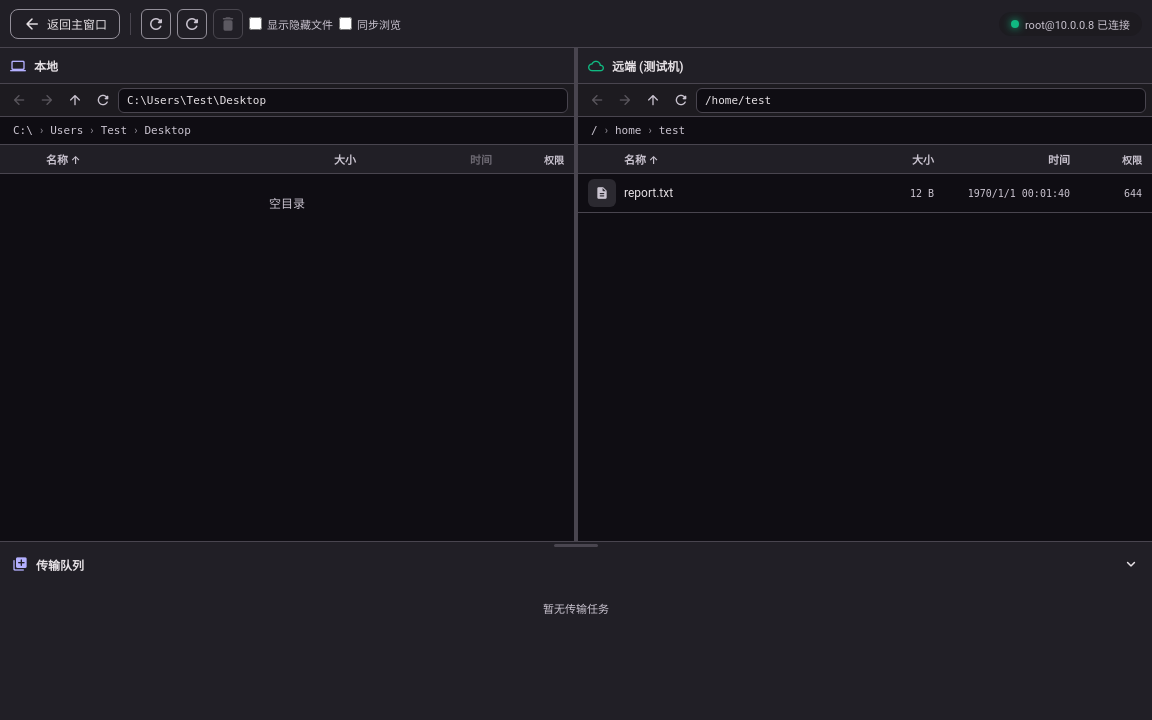
Test case: SFTP 远端文本编辑（外部编辑器） › 未修改关闭收到 unchanged，不回传也不取消
Later steps or results of the test are not shown.
Right-click the text "report.txt".
right_click(649, 193)  # box [624, 186, 673, 200]
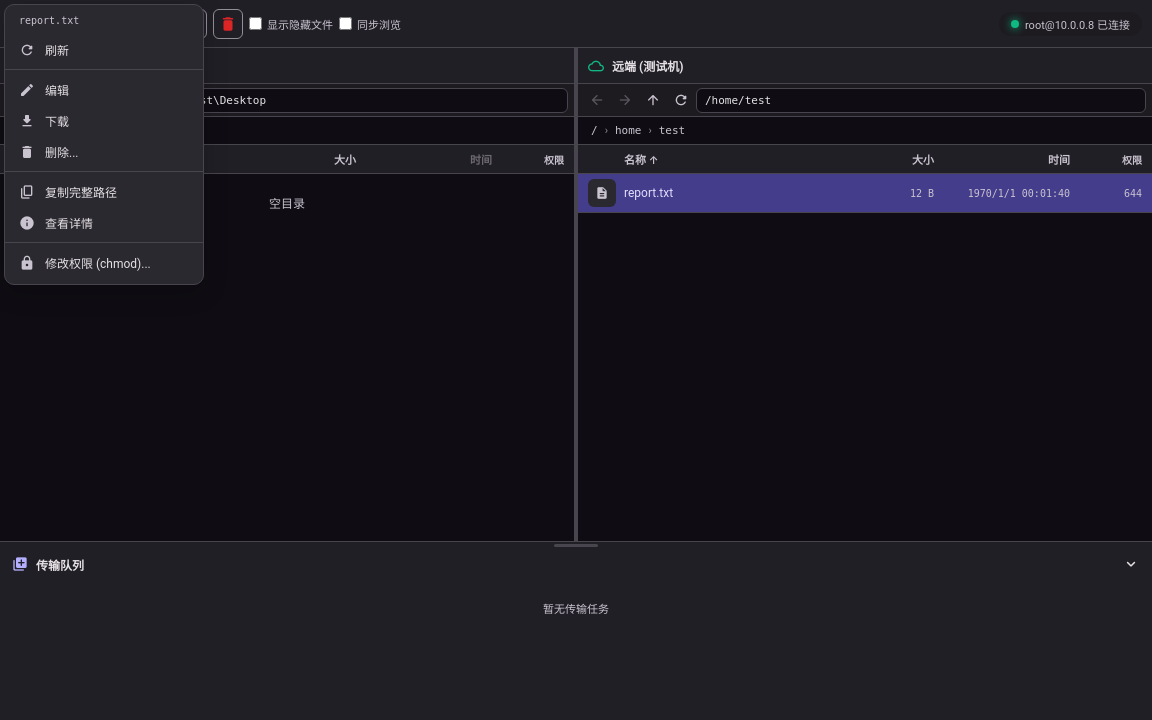
Click the menu item "编辑".
click(44, 90)  # box [19, 82, 69, 98]
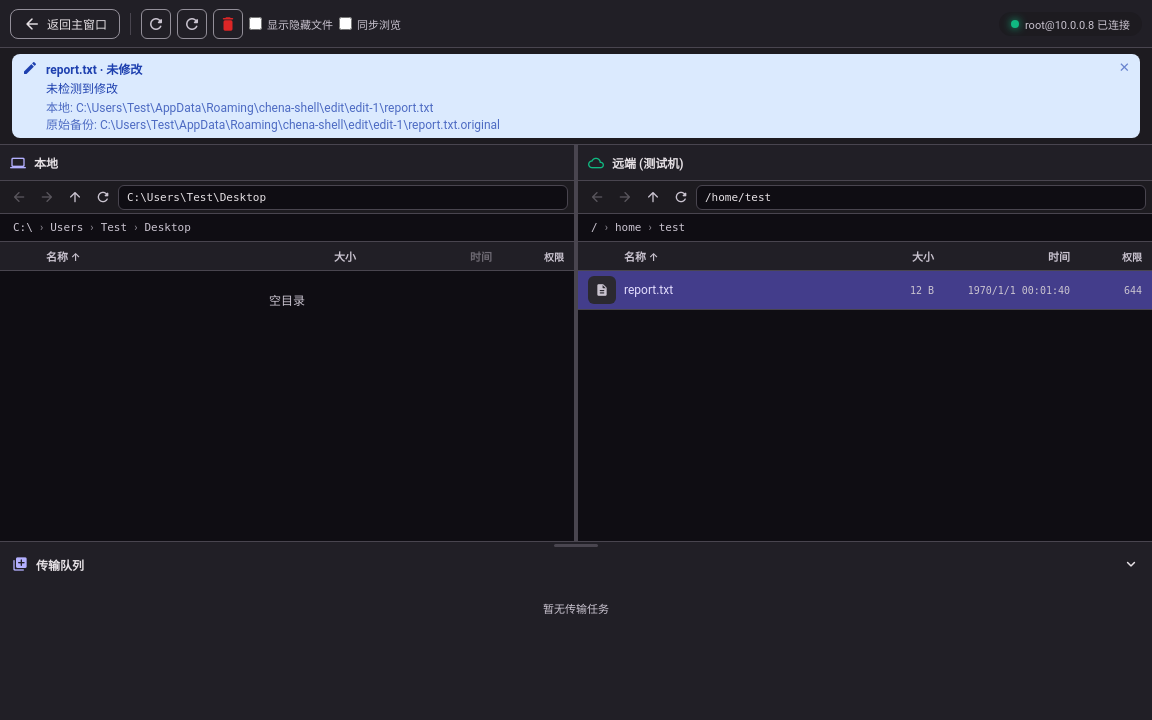
Now the message with test id "edit-notice-unchanged" is shown, box [12, 54, 1140, 138]
